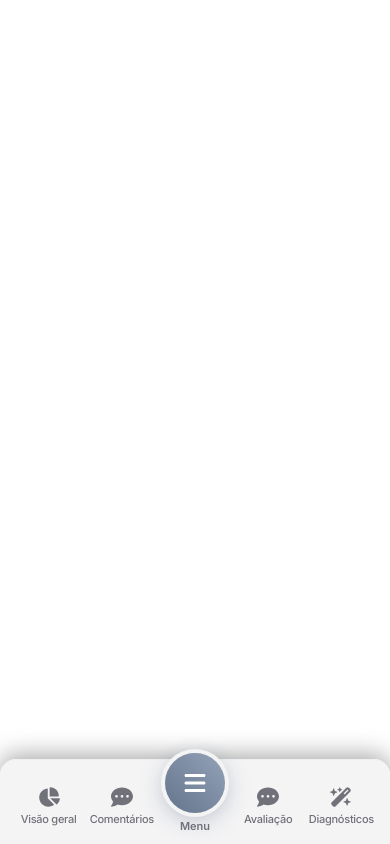
Test: [Unidade] navegação móvel › abre o menu completo ao tocar no botão central
Expected: the dialog "Mapa de Navegação" is not shown
Click the button named "Abrir menu de navegação completo".
click(195, 783)  # box [165,753,225,813]
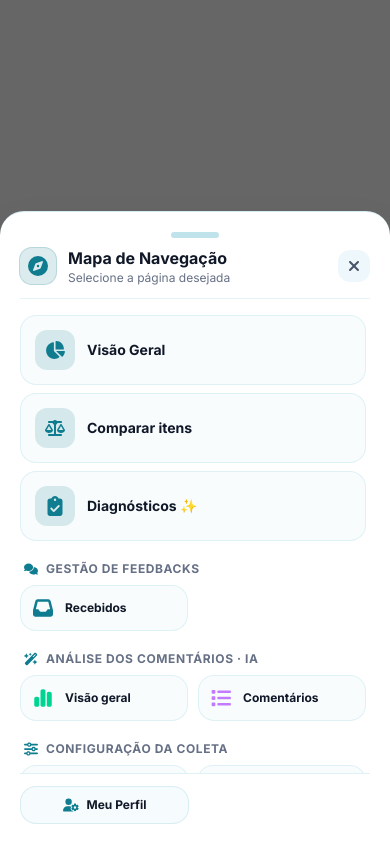
Now the dialog "Mapa de Navegação" is shown
Now the button named "Abrir menu de navegação completo" is expanded, box [165,753,225,813]
